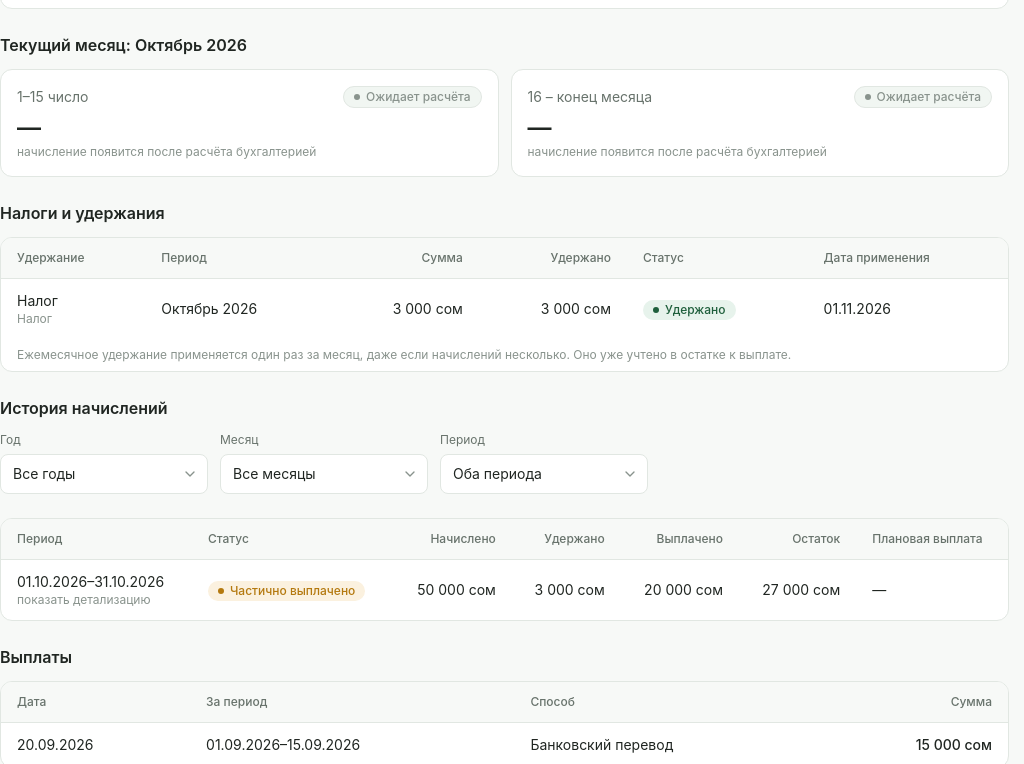
Test: MySalaryPage — налоги и удержания › lists own deductions with period, amount, status and date
(page scrolled)
Expected: the text "Октябрь 2026" shows "Налог", [17,292,58,309]
Expected: the text "Октябрь 2026" shows "3 000 сом", [393,300,463,317]
Click the text "01.10.2026–31.10.2026": {"x": 91, "y": 582} [1,560,1008,620]
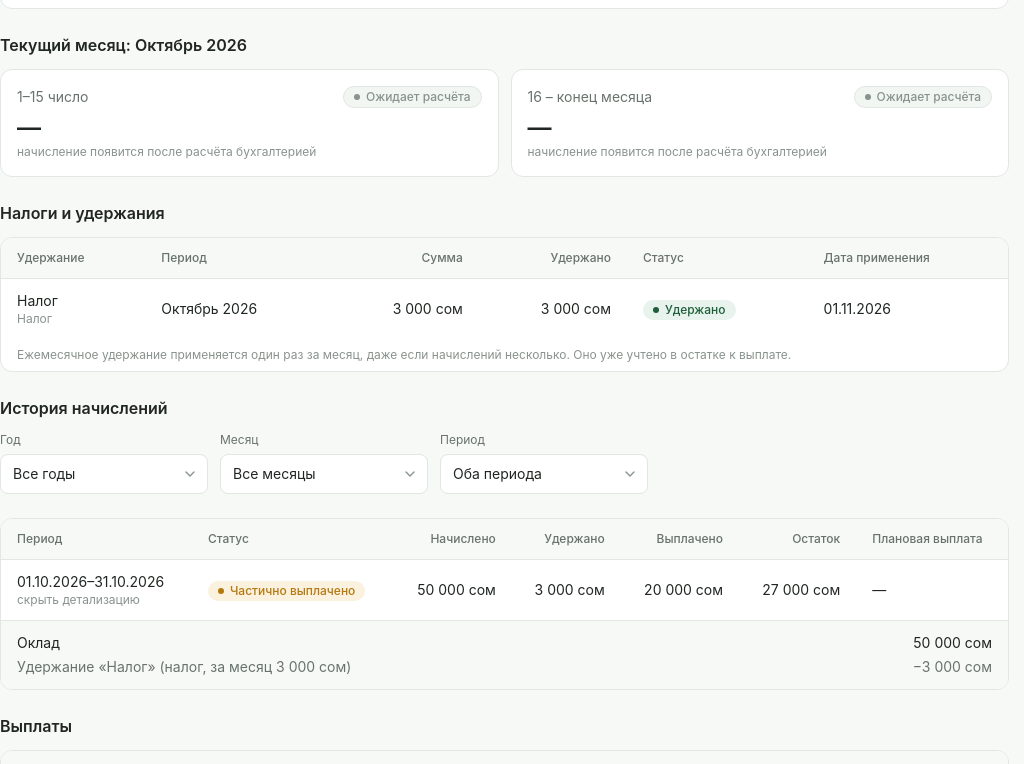
Now the text "−3 000 сом" is shown, box [913,657,992,677]
